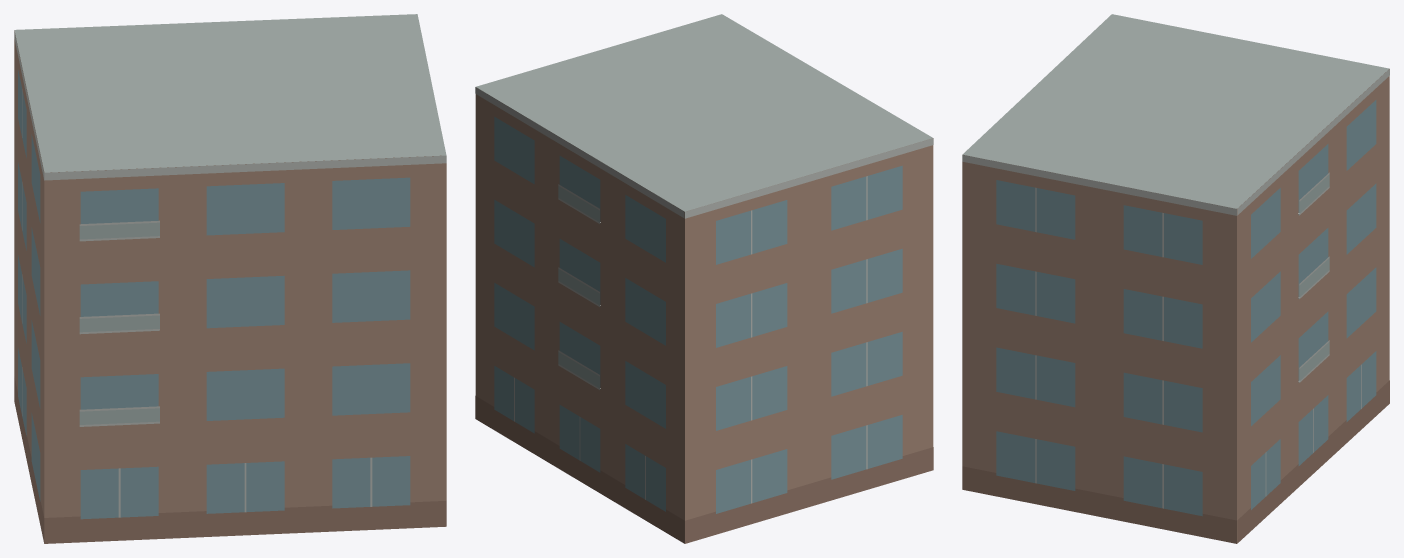
Rendered from survey-upis-32680851.glb.
3 views of the same model, side by side, from view 1: azimuth 30°, elevation 25°; view 2: azimuth 150°, elevation 25°; view 3: azimuth 270°, elevation 25° (orthographic). The views are drawn at different scales.
Parts seen in each view (by area): view 1: survey-upis-32680851.tmp; view 2: survey-upis-32680851.tmp; view 3: survey-upis-32680851.tmp.
Boxes of the visible parts, x1,y1,x2,y2 form: survey-upis-32680851.tmp: (14,14,446,543); survey-upis-32680851.tmp: (475,14,933,543); survey-upis-32680851.tmp: (962,14,1389,543).
Bounding box in the file's own units: 14.48 × 11.6 × 13.42.
